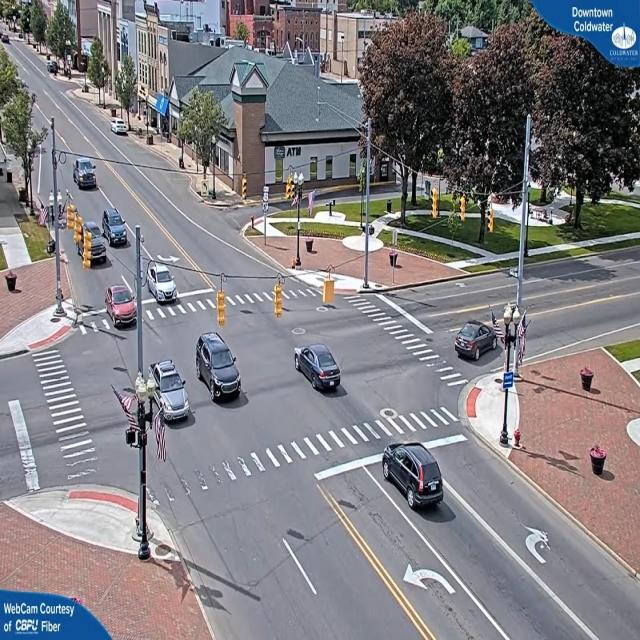car: (381, 442, 445, 512), (196, 333, 244, 405), (148, 361, 196, 426), (294, 344, 341, 394), (455, 320, 499, 362), (106, 283, 138, 328), (148, 265, 181, 305), (102, 209, 131, 247), (75, 158, 97, 188), (112, 120, 128, 136)
